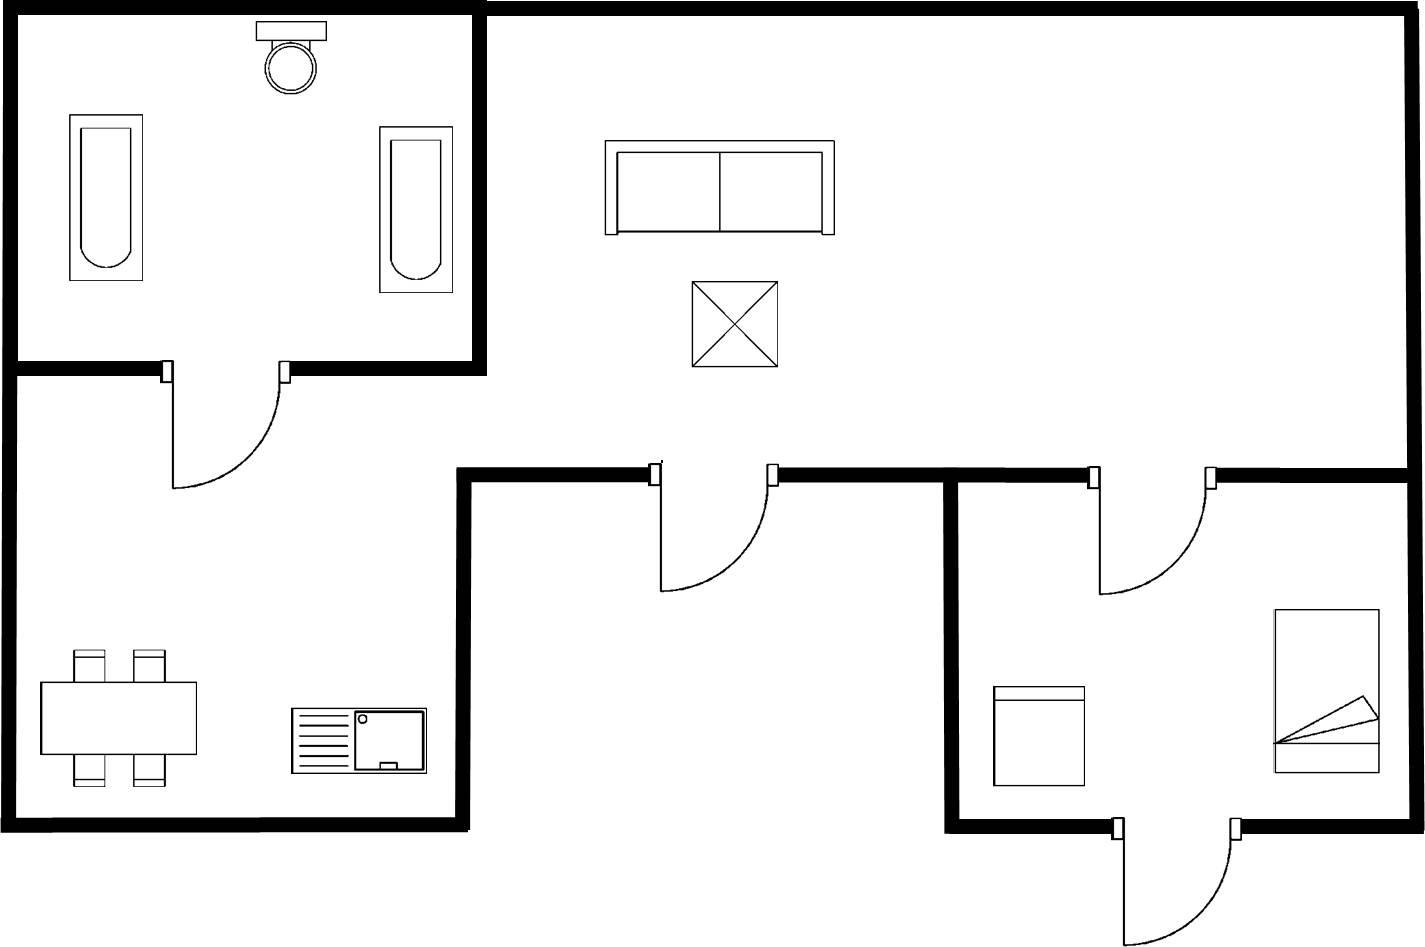bed: (1267, 604, 1383, 778)
dining_table: (31, 643, 206, 791)
sink: (282, 699, 431, 781)
sofa: (597, 135, 842, 242)
toilet: (248, 15, 334, 99)
tub: (59, 107, 146, 290), (372, 120, 457, 299)
